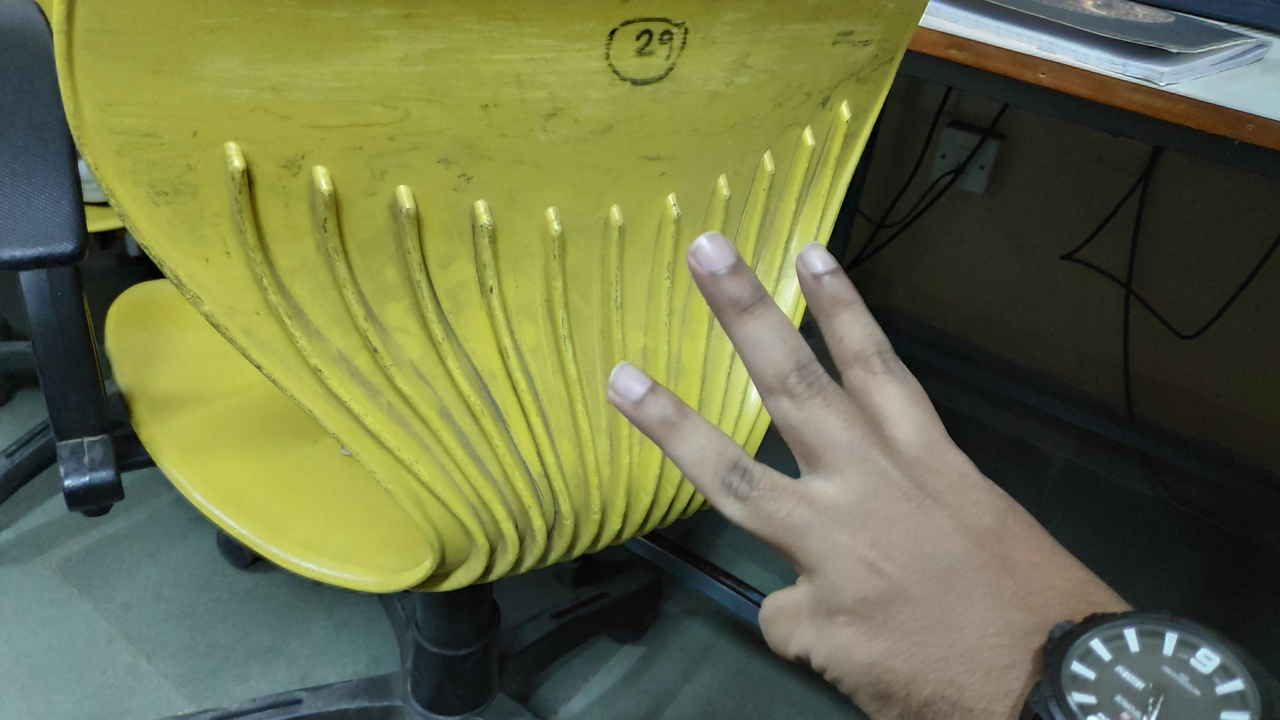fingertip: (682, 218, 746, 292), (600, 354, 662, 418), (788, 232, 850, 294)
